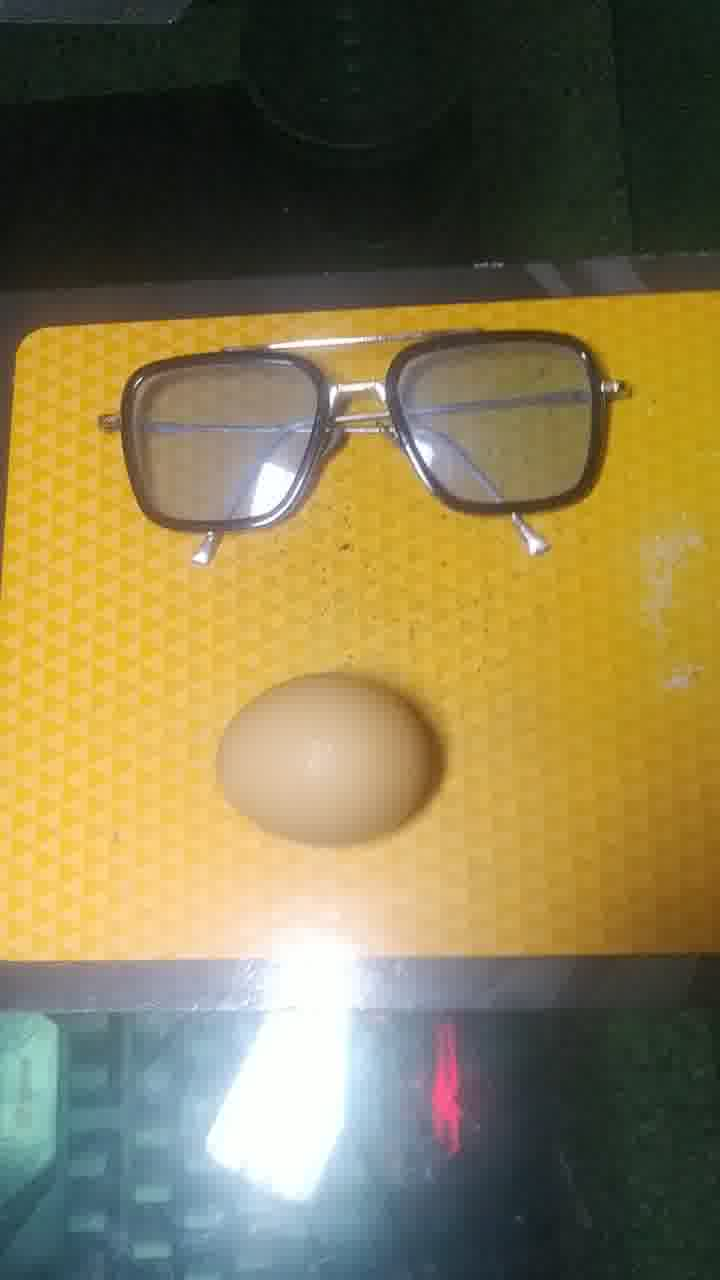egg: (206, 664, 457, 853)
sunglass: (103, 324, 640, 573)
